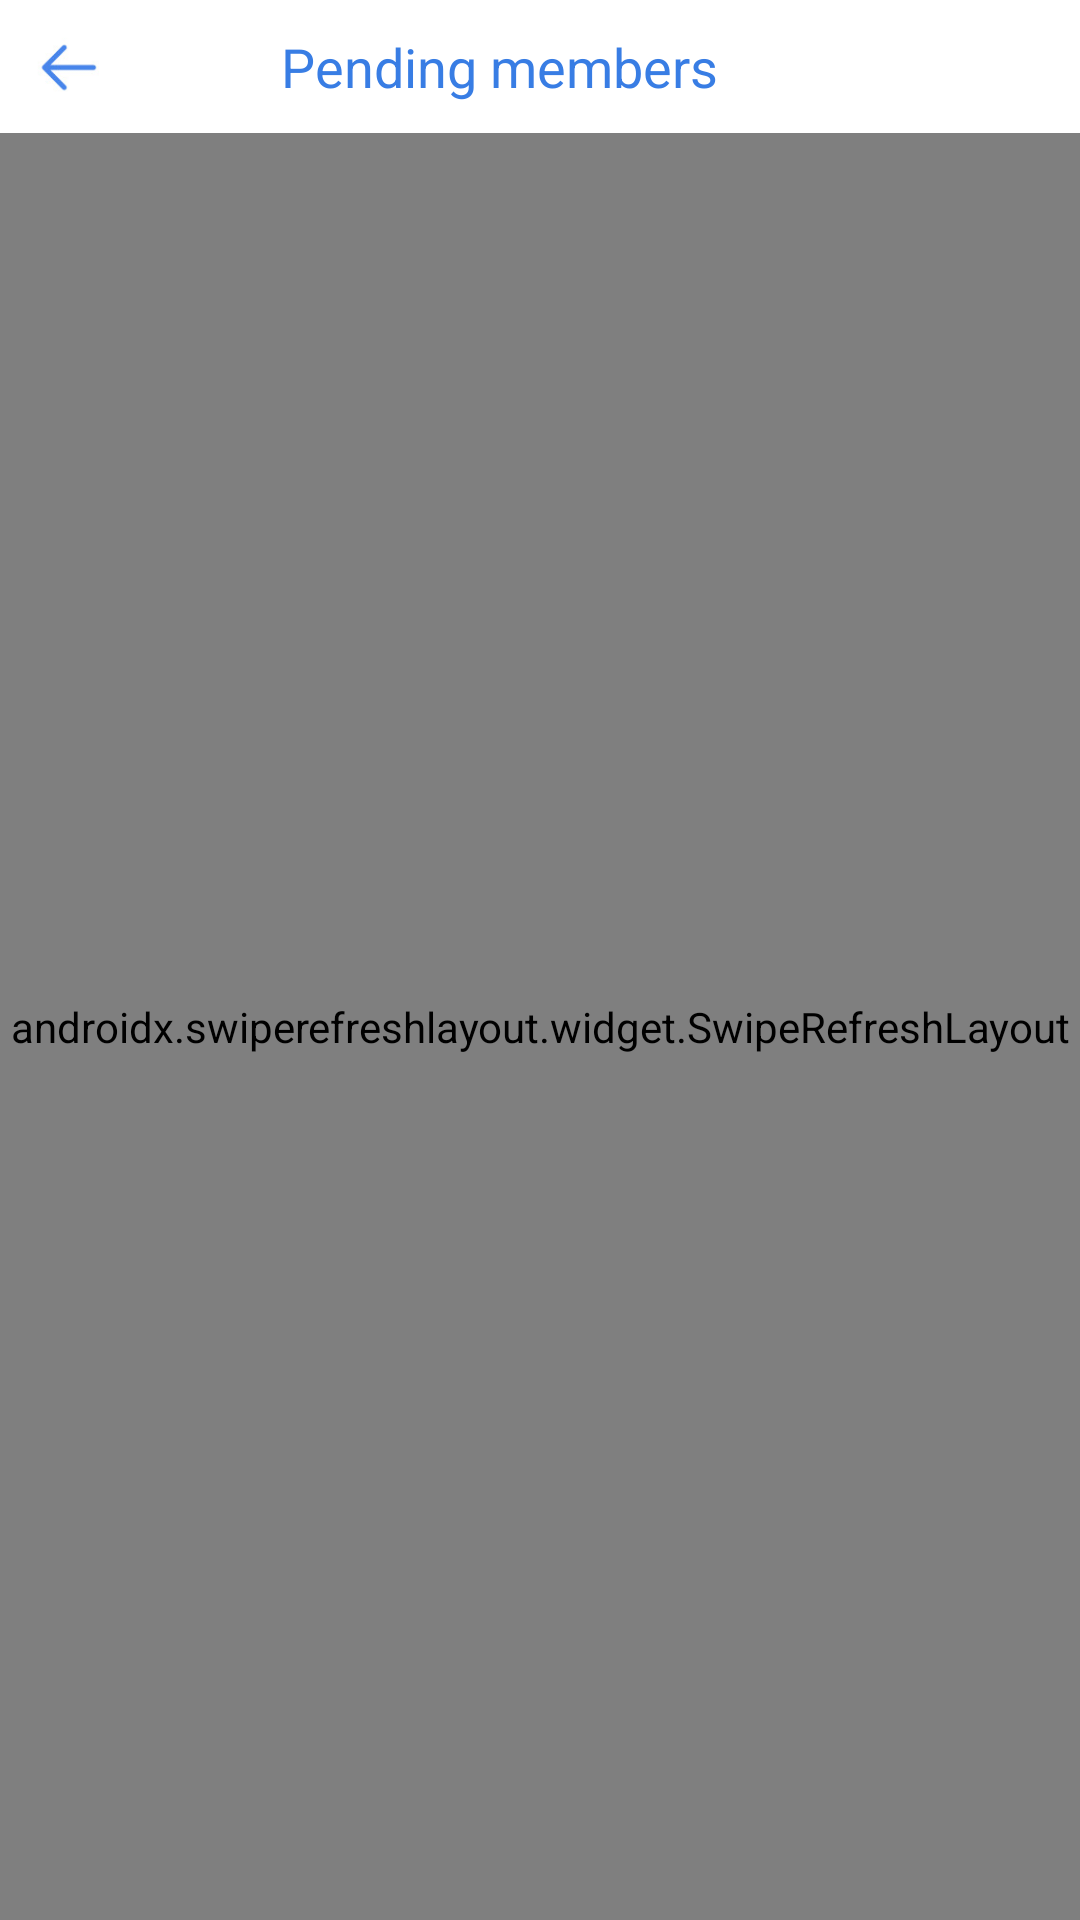

Icon click points for this 1080px x 1920px phone screenshot, format (x=x, y=y):
back: (x=69, y=67)
